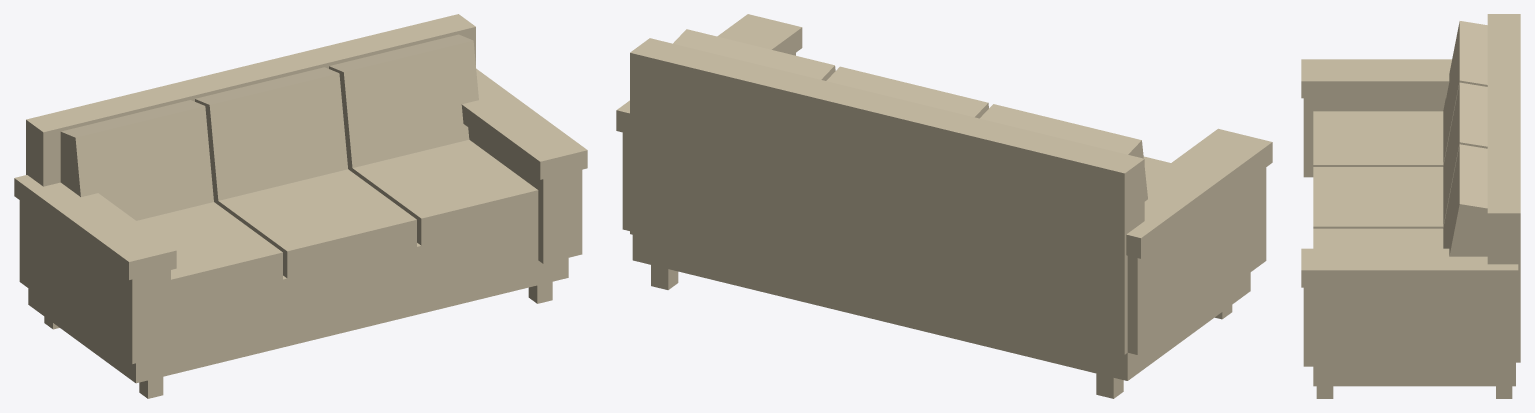
Rendered from sofa.glb.
The picture shows the model from 3 angles, left to right: view 1: azimuth 30°, elevation 25°; view 2: azimuth 150°, elevation 25°; view 3: azimuth 270°, elevation 25°; orthographic projection. The views are drawn at different scales.
Visible parts, largest first — view 1: sofa; view 2: sofa; view 3: sofa.
Part boxes in pixels (bbox=[...]): sofa: bbox=[14, 14, 587, 398]; sofa: bbox=[616, 14, 1272, 398]; sofa: bbox=[1301, 14, 1520, 398].
Bounding box in the file's own units: 2.12 × 0.9056 × 0.93.
